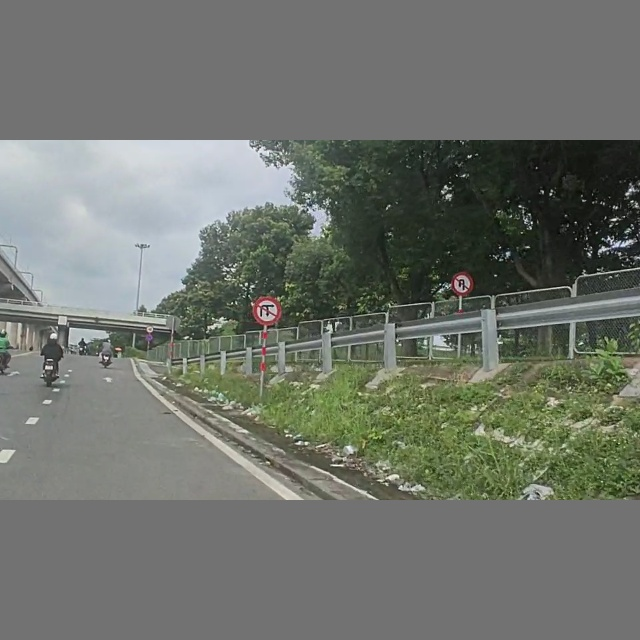P.124a*: (451, 272, 474, 297)
P.124d: (252, 296, 282, 326)
P.127*40: (146, 325, 154, 333)
P.130: (145, 334, 153, 341)
